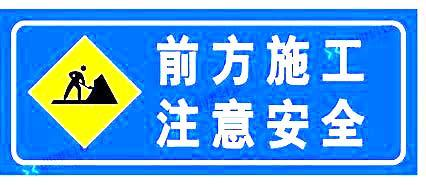sign: (6, 17, 410, 167)
